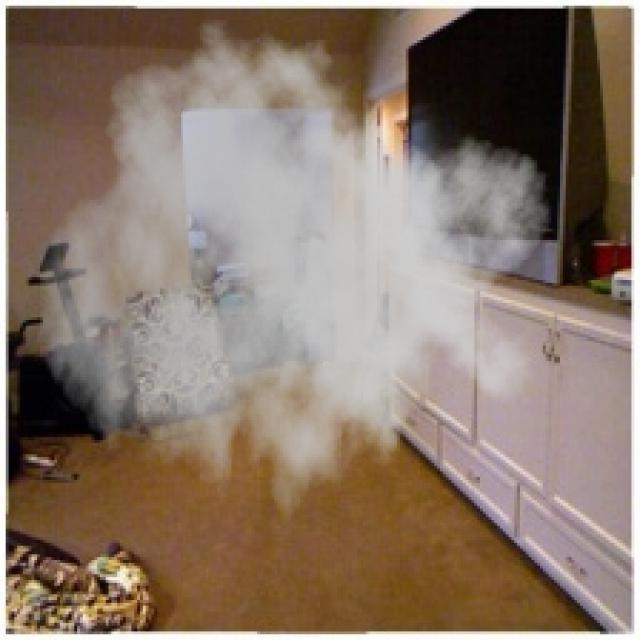Smoke: (37, 6, 554, 546)
